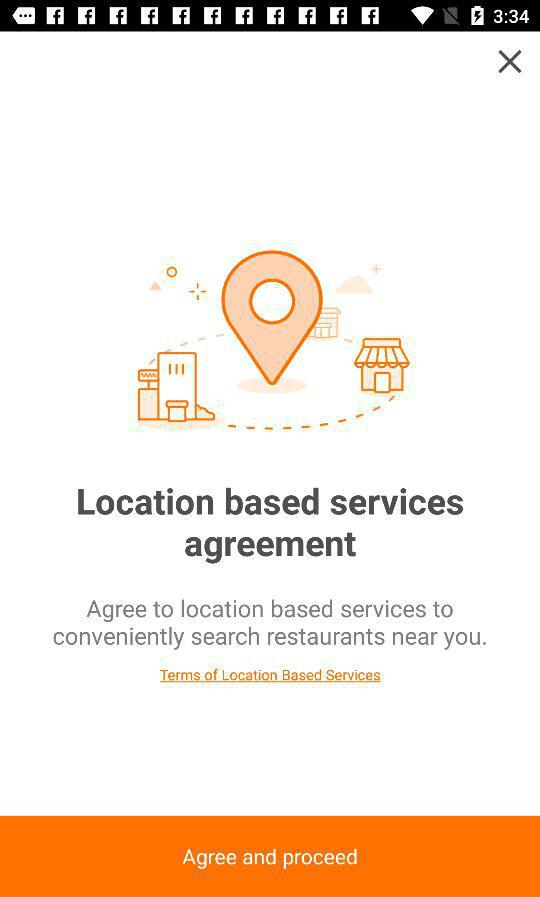Icon: (498, 50, 522, 75)
Image: (130, 250, 411, 435)
Text: (78, 487, 464, 565), (53, 599, 487, 651), (159, 669, 382, 684)
TextButton: (1, 816, 540, 897)
UpperTaskBar: (1, 1, 540, 33)
